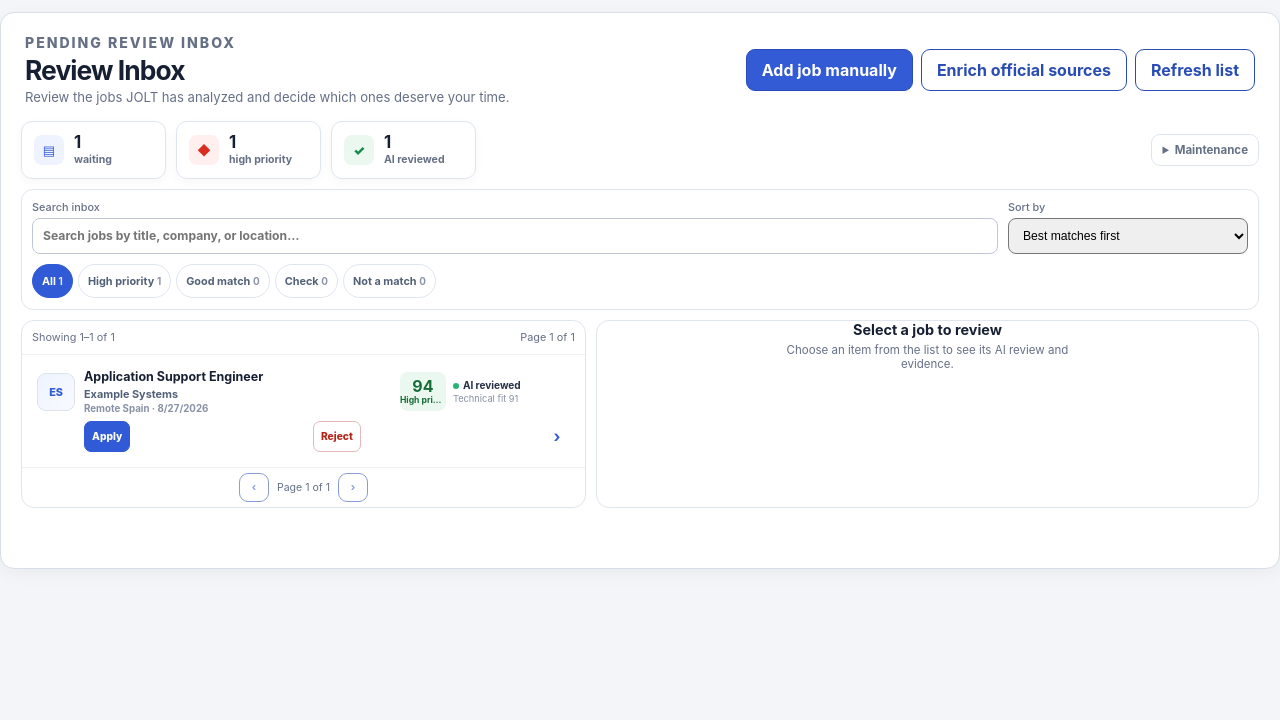
App AI review workflow › sends ai_review_id when the human chooses pursue
Expected: the heading "Application Support Engineer" is shown, [84,369,263,384]
Click the button "Apply" at point(107, 436), box [84,421,130,452]
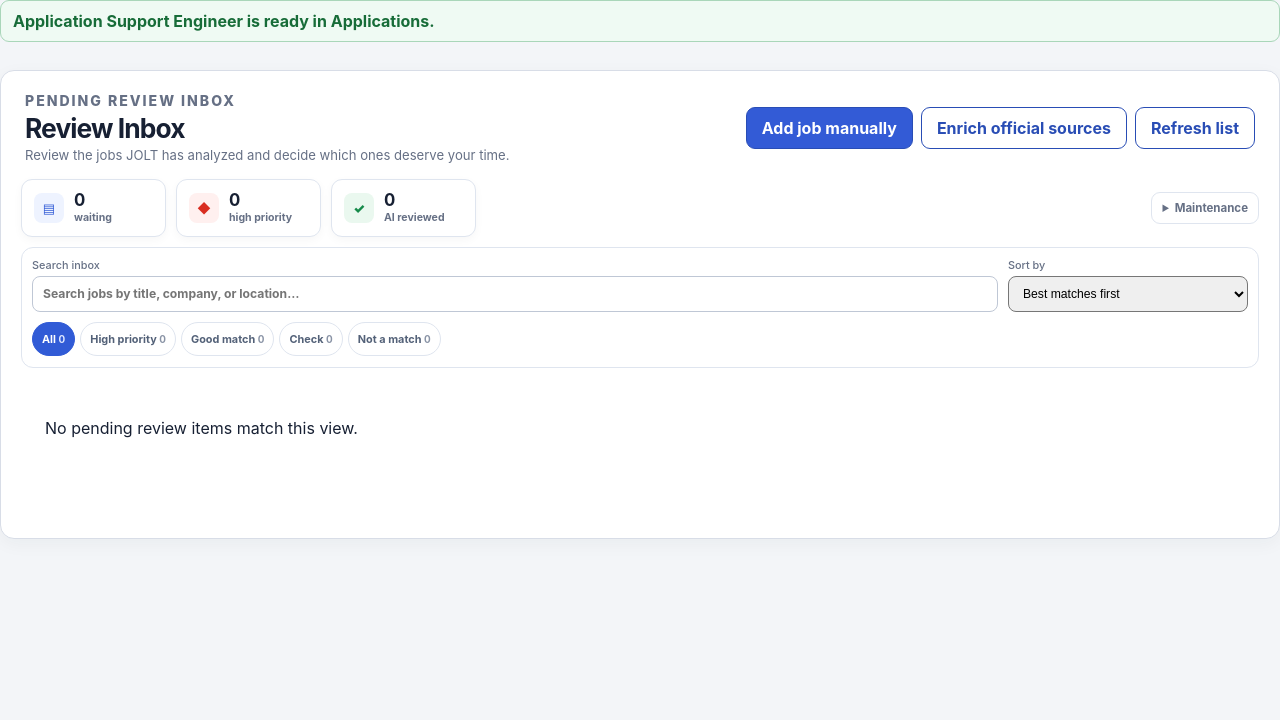
Expected: the message shows "ready in Applications", [13,11,435,31]
